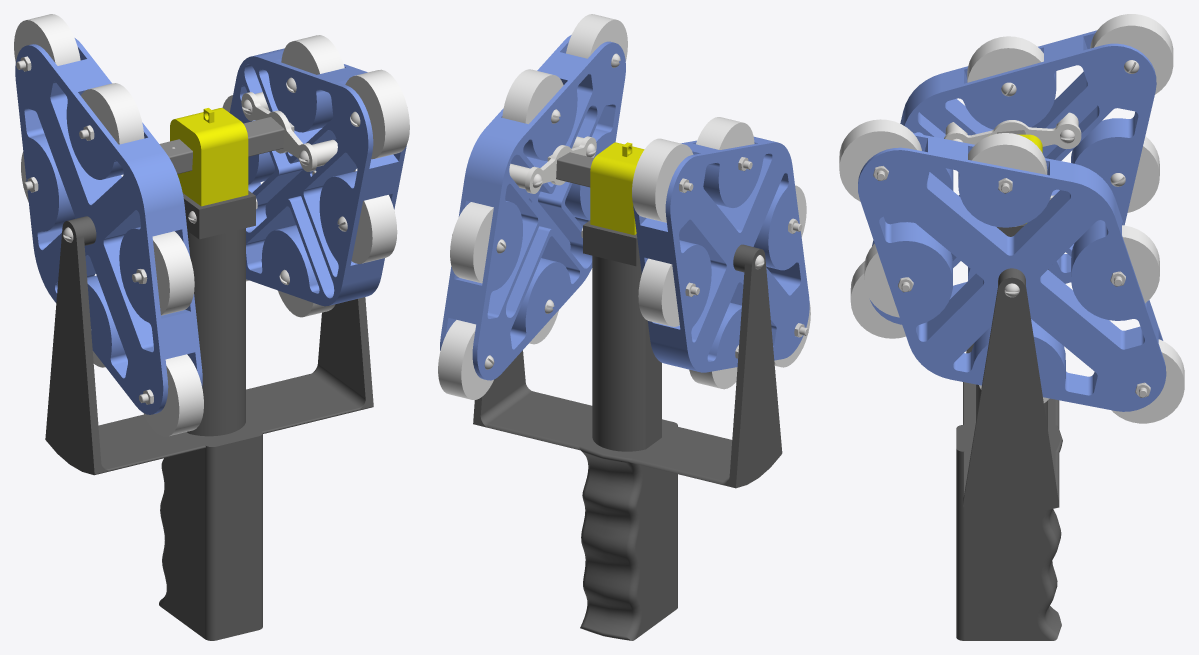
3 renders of one model, left to right at view 1: azimuth 30°, elevation 25°; view 2: azimuth 150°, elevation 25°; view 3: azimuth 270°, elevation 25°, orthographic. The views are drawn at different scales.
Visible parts, largest first — view 1: Model_Space; view 2: Model_Space; view 3: Model_Space.
Part boxes in pixels (bbox=[...]): Model_Space: bbox=[14, 14, 409, 640]; Model_Space: bbox=[438, 14, 810, 640]; Model_Space: bbox=[839, 14, 1184, 640].
Bounding box in the file's own units: 0.1171 × 0.222 × 0.1241.
